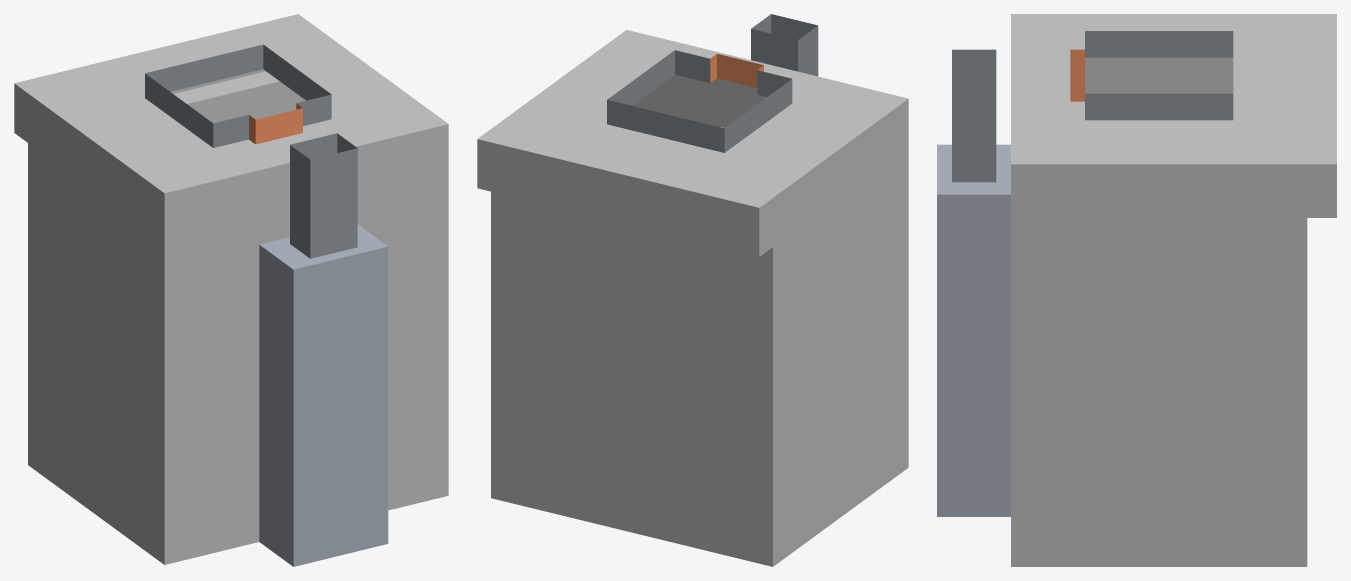
The model's file is cell_39.obj.
The picture shows the model from 3 angles, left to right: view 1: azimuth 30°, elevation 25°; view 2: azimuth 150°, elevation 25°; view 3: azimuth 270°, elevation 25°; orthographic projection. The views are drawn at different scales.
Size of the model in its own units: 0.75 by 1 by 0.8438.
